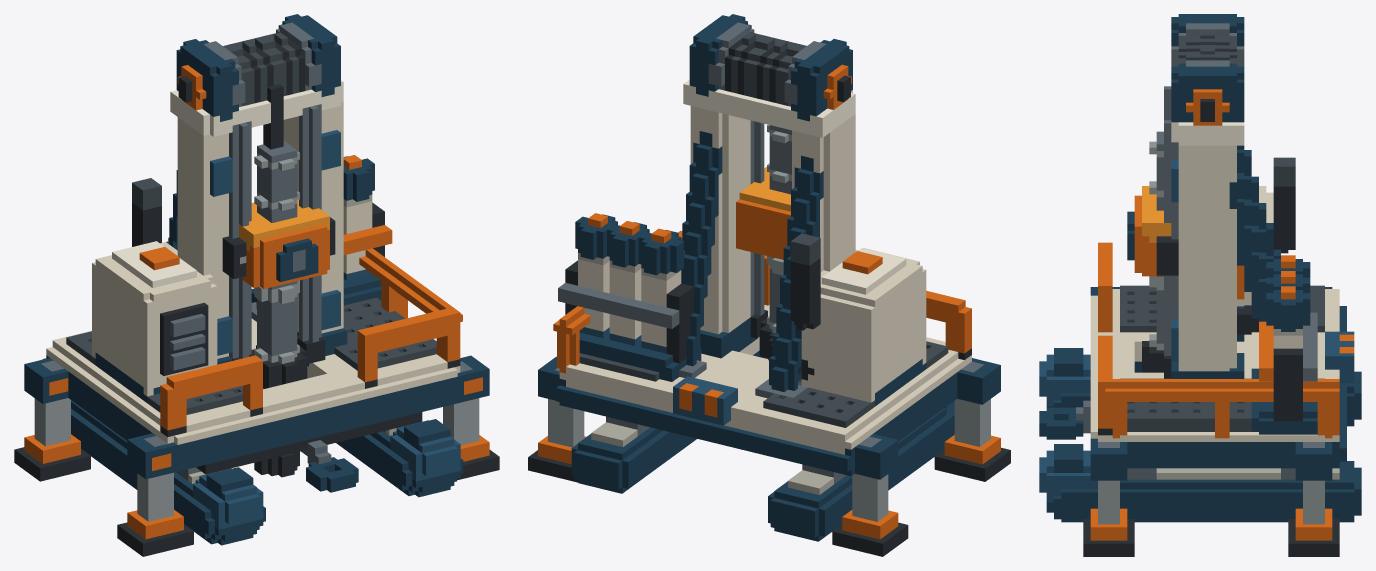
File: ice_core_drill.glb
3 renders of one model, left to right at view 1: azimuth 30°, elevation 25°; view 2: azimuth 150°, elevation 25°; view 3: azimuth 270°, elevation 25°, orthographic.
Parts seen in each view (by area): view 1: ice_core_drill; view 2: ice_core_drill; view 3: ice_core_drill.
Part boxes in pixels (bbox=[...]): ice_core_drill: bbox=[14, 14, 499, 556]; ice_core_drill: bbox=[528, 14, 1010, 556]; ice_core_drill: bbox=[1039, 14, 1361, 556].
Bounding box in the file's own units: 5.04 × 5.76 × 3.96.
